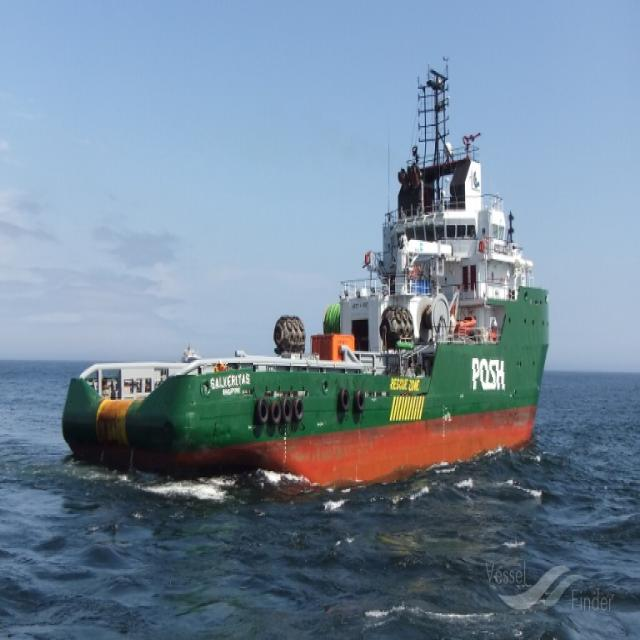OCR: (464, 349, 514, 402), (199, 363, 253, 404), (388, 370, 424, 396)
